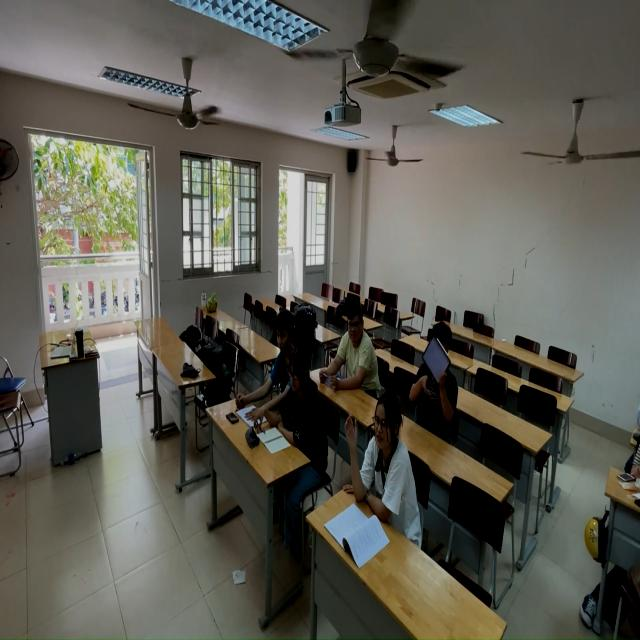raise_hand: (345, 384, 416, 527)
read: (234, 295, 305, 425), (261, 346, 324, 460), (399, 323, 458, 436), (320, 300, 382, 395)
